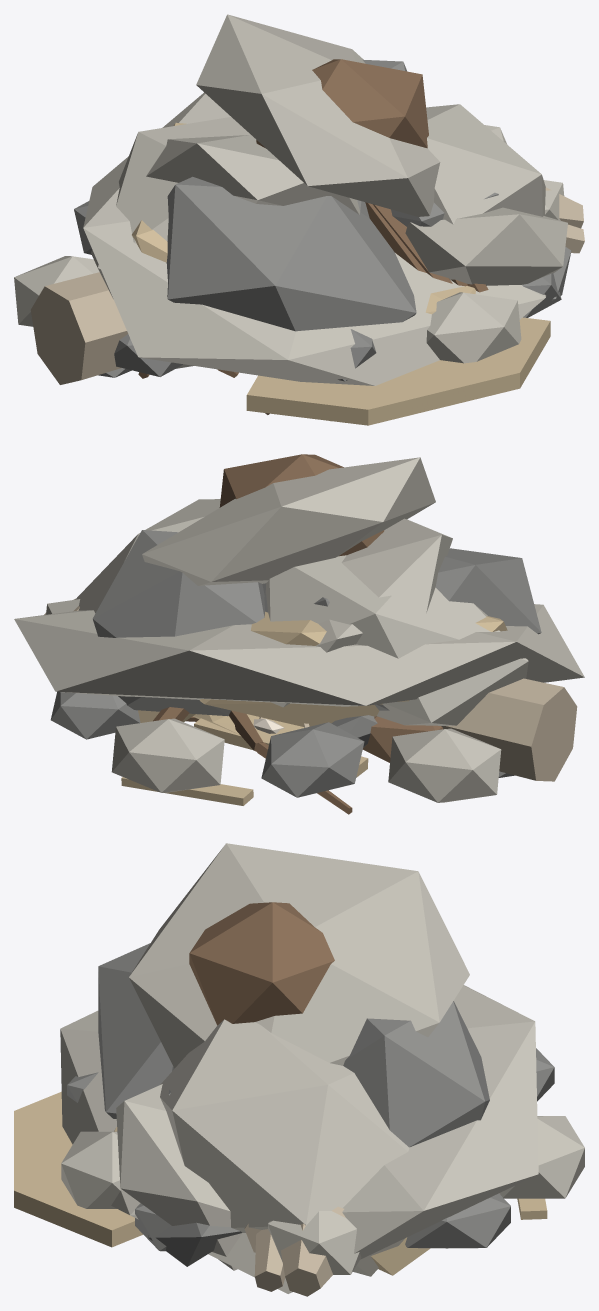
The model's file is costa_modular.glb.
The picture shows the model from 3 angles, top to bottom: view 1: azimuth 30°, elevation 25°; view 2: azimuth 150°, elevation 25°; view 3: azimuth 270°, elevation 25°; orthographic projection. The views are drawn at different scales.
Parts seen in each view (by area): view 1: costa_grupo_rocoso, costa_roca_baja_grande, costa_borde_poza, costa_roca_erosionada, costa_roca_con_hendidura, costa_raices_entrelazadas, costa_madera_arrasta, costa_monticulo_arena, costa_roca_baja_mediana, costa_madera_arrastre_curva; view 2: costa_roca_baja_grande, costa_borde_poza, costa_roca_erosionada, costa_roca_con_hendidura, costa_grupo_rocoso, costa_madera_arrasta, costa_monticulo_arena, costa_raices_entrelazadas, costa_huellas_olas, costa_madera_arrastre_raices, costa_raices_bajas, costa_mata_duna_grande; view 3: costa_roca_erosionada, costa_roca_con_hendidura, costa_grupo_rocoso, costa_roca_baja_grande, costa_borde_poza, costa_raices_entrelazadas, costa_madera_arrasta, costa_madera_arrastre_curva, costa_monticulo_arena, costa_huellas_olas.
Part boxes in pixels (x1,y1,x2,y2): costa_grupo_rocoso: [166, 59, 567, 331]; costa_roca_baja_grande: [83, 92, 571, 385]; costa_borde_poza: [14, 180, 564, 425]; costa_roca_erosionada: [196, 14, 440, 218]; costa_roca_con_hendidura: [91, 104, 545, 368]; costa_raices_entrelazadas: [217, 59, 488, 377]; costa_madera_arrasta: [30, 187, 583, 384]; costa_monticulo_arena: [132, 122, 475, 314]; costa_roca_baja_mediana: [391, 192, 498, 226]; costa_madera_arrastre_curva: [98, 224, 584, 377]; costa_roca_baja_grande: [14, 518, 584, 707]; costa_borde_poza: [46, 599, 501, 802]; costa_roca_erosionada: [142, 457, 435, 747]; costa_roca_con_hendidura: [75, 499, 528, 725]; costa_grupo_rocoso: [92, 530, 541, 716]; costa_madera_arrasta: [44, 598, 577, 781]; costa_monticulo_arena: [138, 611, 507, 726]; costa_raices_entrelazadas: [153, 454, 384, 721]; costa_huellas_olas: [121, 718, 368, 805]; costa_madera_arrastre_raices: [362, 716, 442, 762]; costa_raices_bajas: [229, 710, 352, 814]; costa_mata_duna_grande: [193, 714, 309, 740]; costa_roca_erosionada: [129, 843, 469, 1068]; costa_roca_con_hendidura: [160, 1019, 409, 1276]; costa_grupo_rocoso: [98, 943, 489, 1270]; costa_roca_baja_grande: [60, 985, 538, 1293]; costa_borde_poza: [14, 1048, 584, 1274]; costa_raices_entrelazadas: [189, 902, 334, 1025]; costa_madera_arrasta: [281, 1206, 345, 1296]; costa_madera_arrastre_curva: [254, 1229, 285, 1291]; costa_monticulo_arena: [114, 1127, 430, 1275]; costa_huellas_olas: [517, 1198, 547, 1219].
Bounding box in the file's own units: 1.74 × 0.8596 × 1.52.
